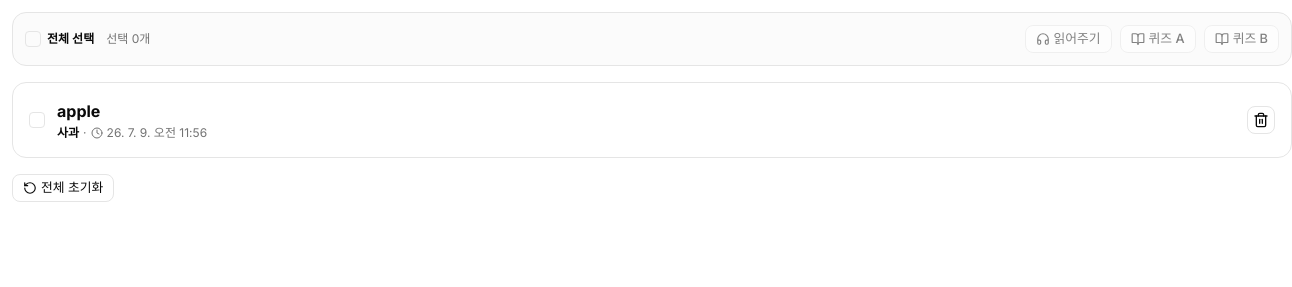
it: WordBook — 퀴즈 진입 (Scenario 15) › 항목 선택 후 퀴즈 A 클릭 → 선택 항목으로 퀴즈가 시작된다
Click the checkbox named "apple 선택": (37, 120) [29,112,45,128]
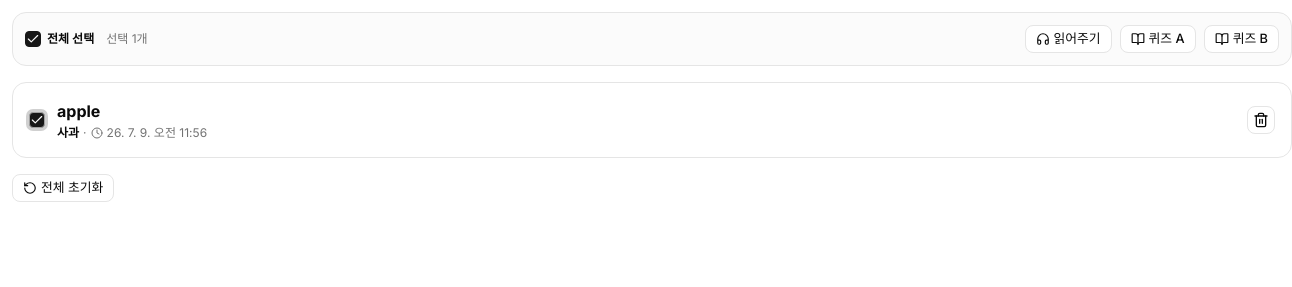
Click the button "퀴즈 A": (1158, 39) [1120,25,1196,53]
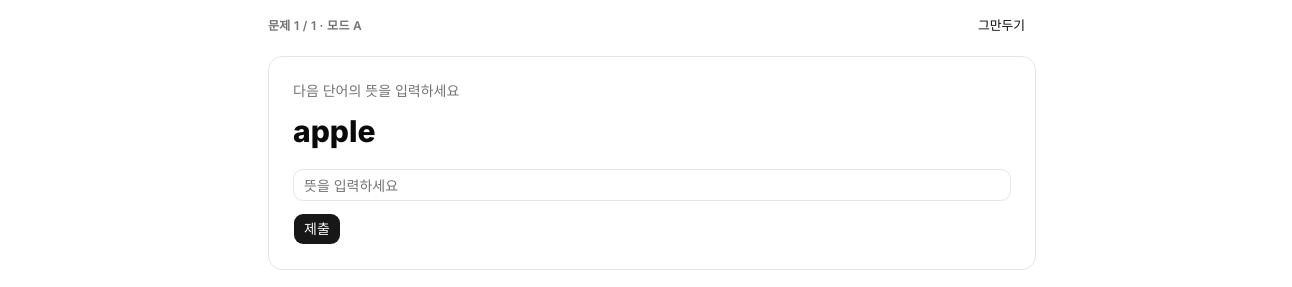
Expected: the text "apple" is shown, [293,113,375,149]
Now the text "문제 1 / 1 · 모드 A" is shown, box [268,18,362,34]
Now the field named "답 입력" is shown, box [293,169,1011,201]
